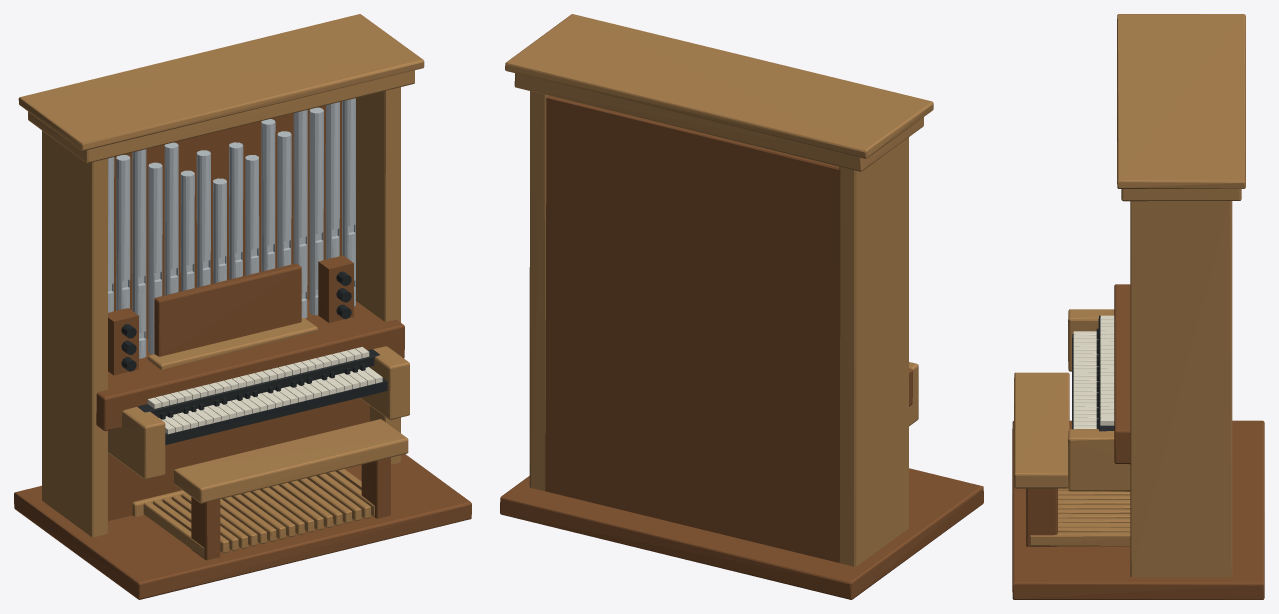
The model's file is NEW_RECOVERY_133_LOD2.fbx.
3 views of the same model, side by side, from view 1: azimuth 30°, elevation 25°; view 2: azimuth 150°, elevation 25°; view 3: azimuth 270°, elevation 25° (orthographic). The views are drawn at different scales.
Visible parts, largest first — view 1: Compact pipe organ static display; view 2: Compact pipe organ static display; view 3: Compact pipe organ static display.
Part boxes in pixels (x1,y1,x2,y2): Compact pipe organ static display: (14, 14, 471, 599); Compact pipe organ static display: (500, 14, 983, 599); Compact pipe organ static display: (1012, 14, 1264, 599).
Size of the model in its own units: 370 by 235 by 434.
